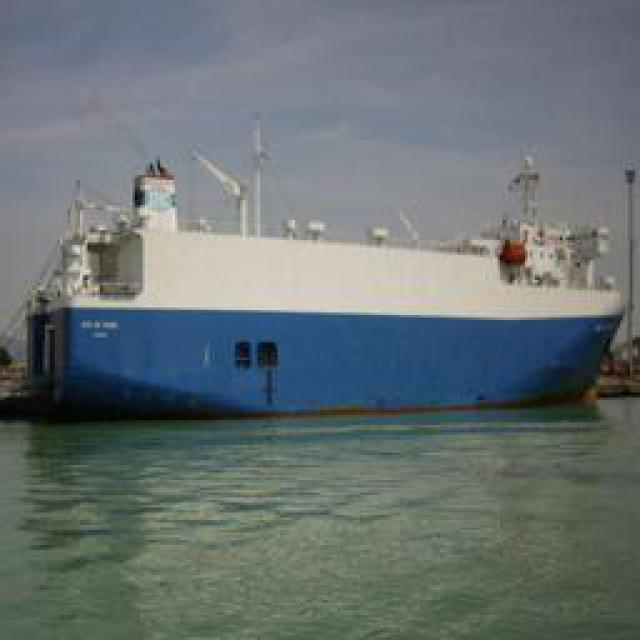Ship: (15, 142, 630, 430)
